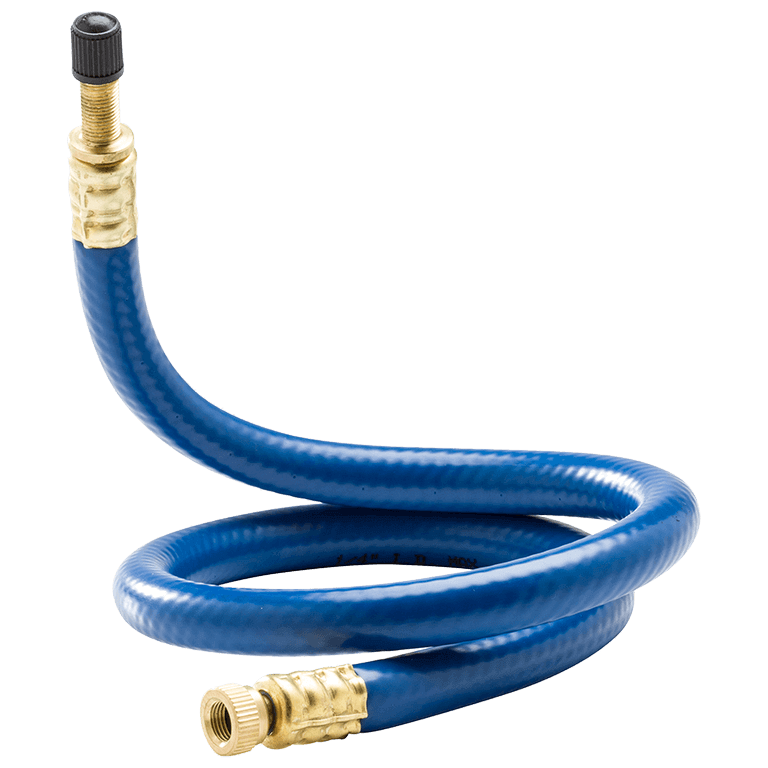Nonrec_Tangler: (1, 7, 730, 755)
